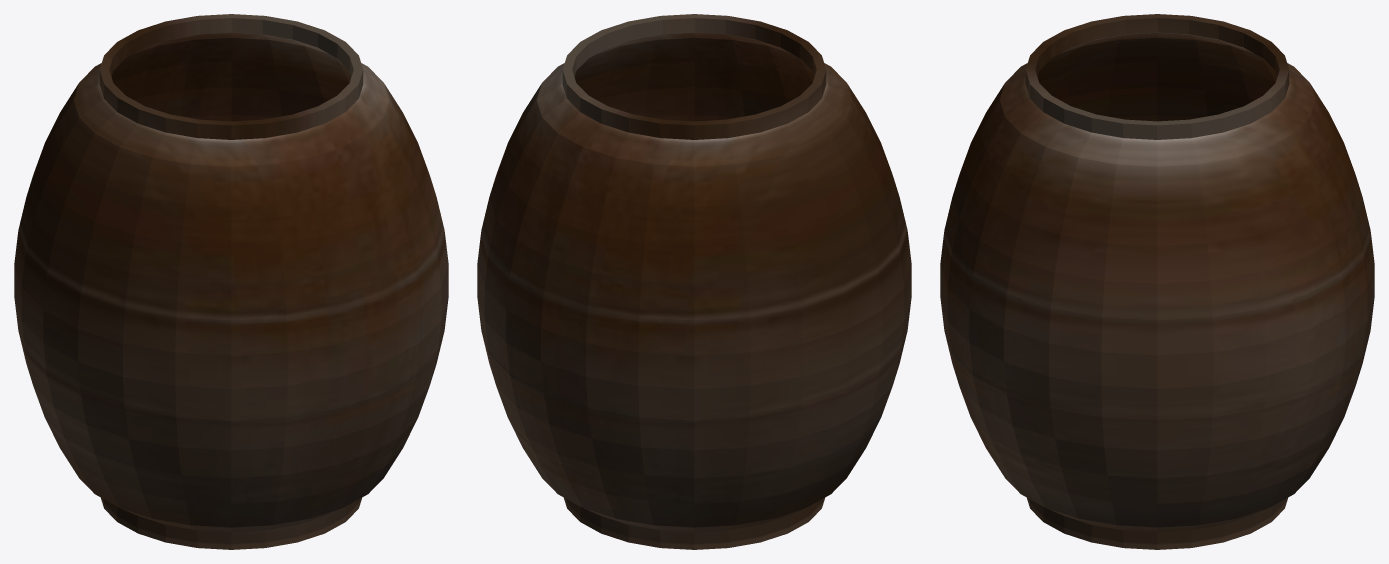
The model's file is jar_02.FBX.
The picture shows the model from 3 angles, left to right: view 1: azimuth 30°, elevation 25°; view 2: azimuth 150°, elevation 25°; view 3: azimuth 270°, elevation 25°; orthographic projection.
Visible parts, largest first — view 1: jar_02; view 2: jar_02; view 3: jar_02.
Boxes of the visible parts, box(x1,y1,x2,y2) form: jar_02: box(14, 14, 448, 549); jar_02: box(477, 14, 911, 549); jar_02: box(940, 14, 1374, 549).
Size of the model in its own units: 10.87 by 11.73 by 10.87.
